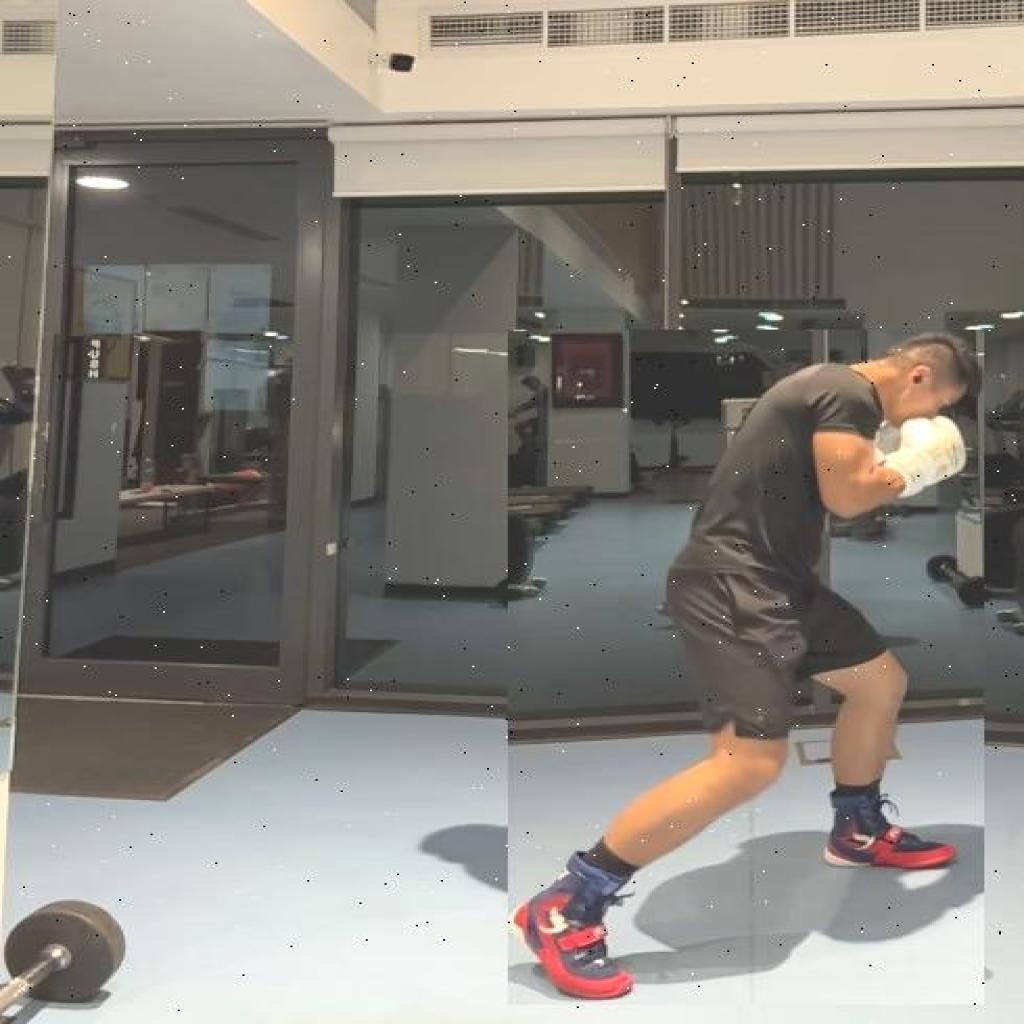no punch: (508, 330, 984, 1006)
